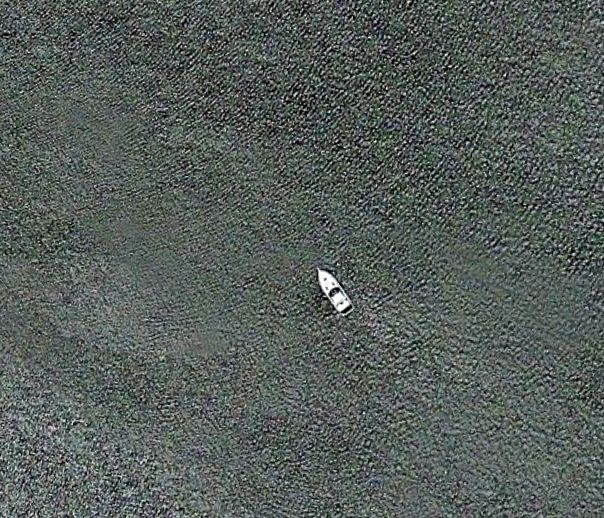boat: (316, 263, 357, 321)
